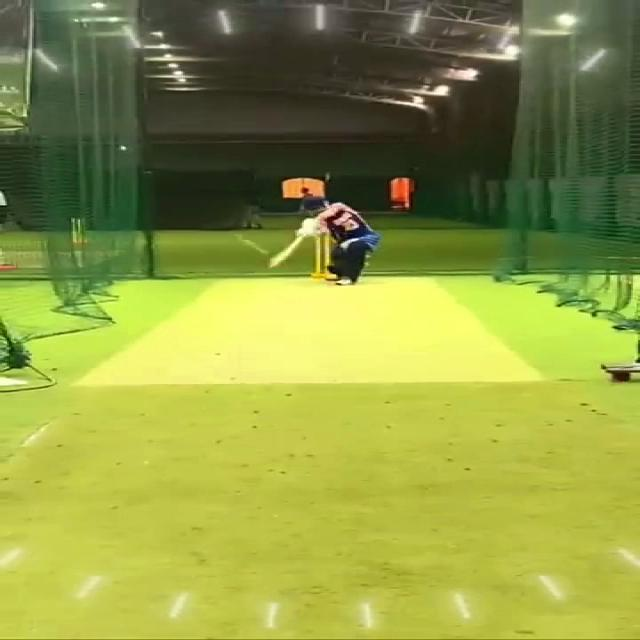batsman: (265, 194, 386, 286)
